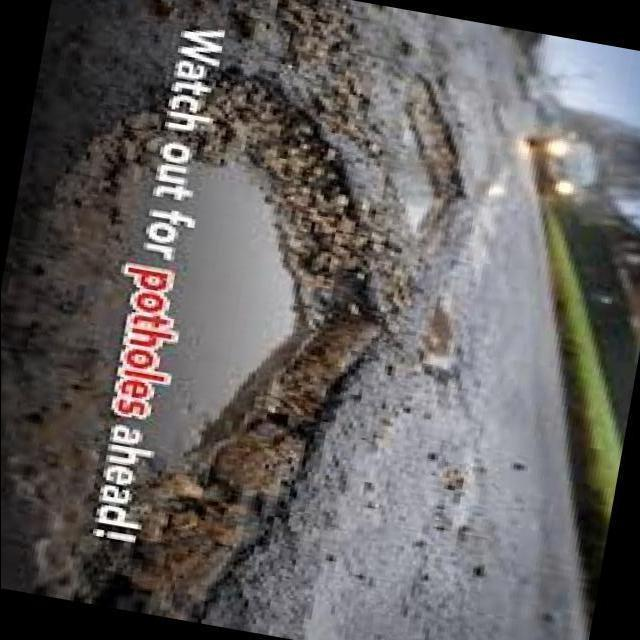pothole: (4, 30, 381, 617), (405, 74, 465, 204), (406, 74, 464, 197), (390, 134, 400, 137)
